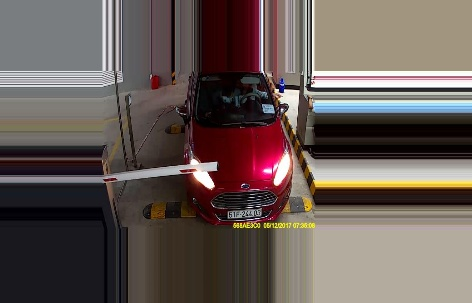plate: (227, 210, 263, 219)
